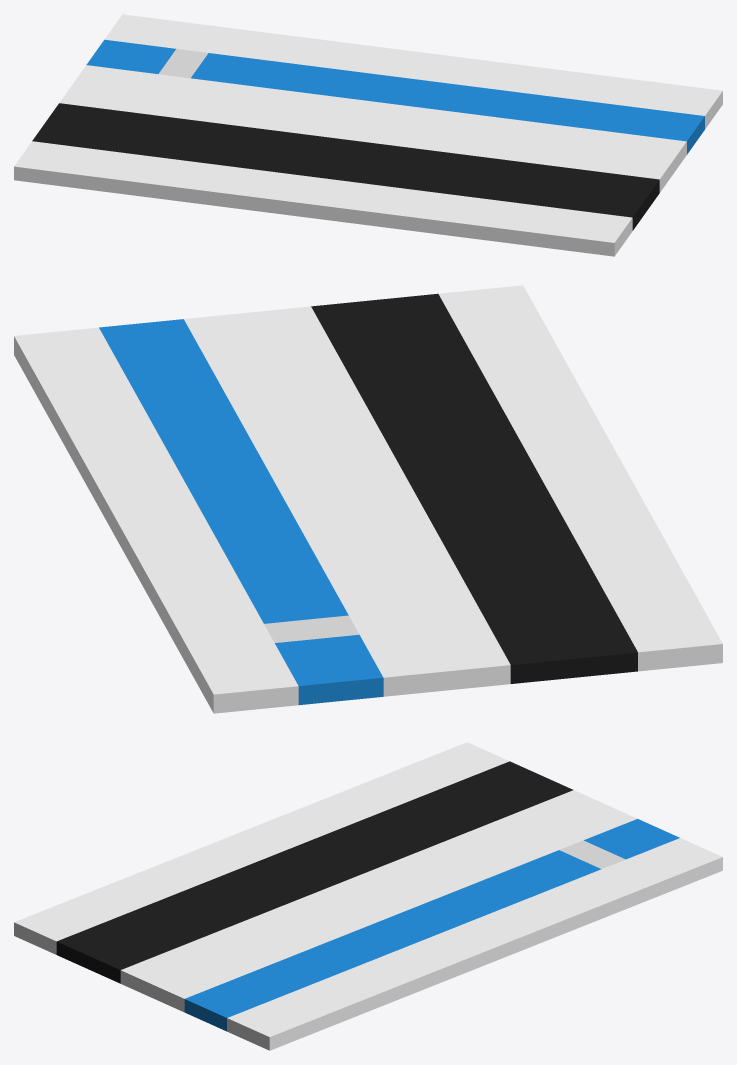
The model's file is Containment1.fbx_Keys.fbx.
3 views of the same model, one above another, from view 1: azimuth 30°, elevation 25°; view 2: azimuth 150°, elevation 25°; view 3: azimuth 270°, elevation 25° (orthographic). The views are drawn at different scales.
Visible parts, largest first — view 1: Key1; view 2: Key1; view 3: Key1.
Part boxes in pixels (x1,y1,x2,y2): Key1: (14, 14, 722, 256); Key1: (14, 285, 722, 713); Key1: (14, 742, 722, 1050).
Bounding box in the file's own units: 20.2 × 0.4343 × 20.51.
